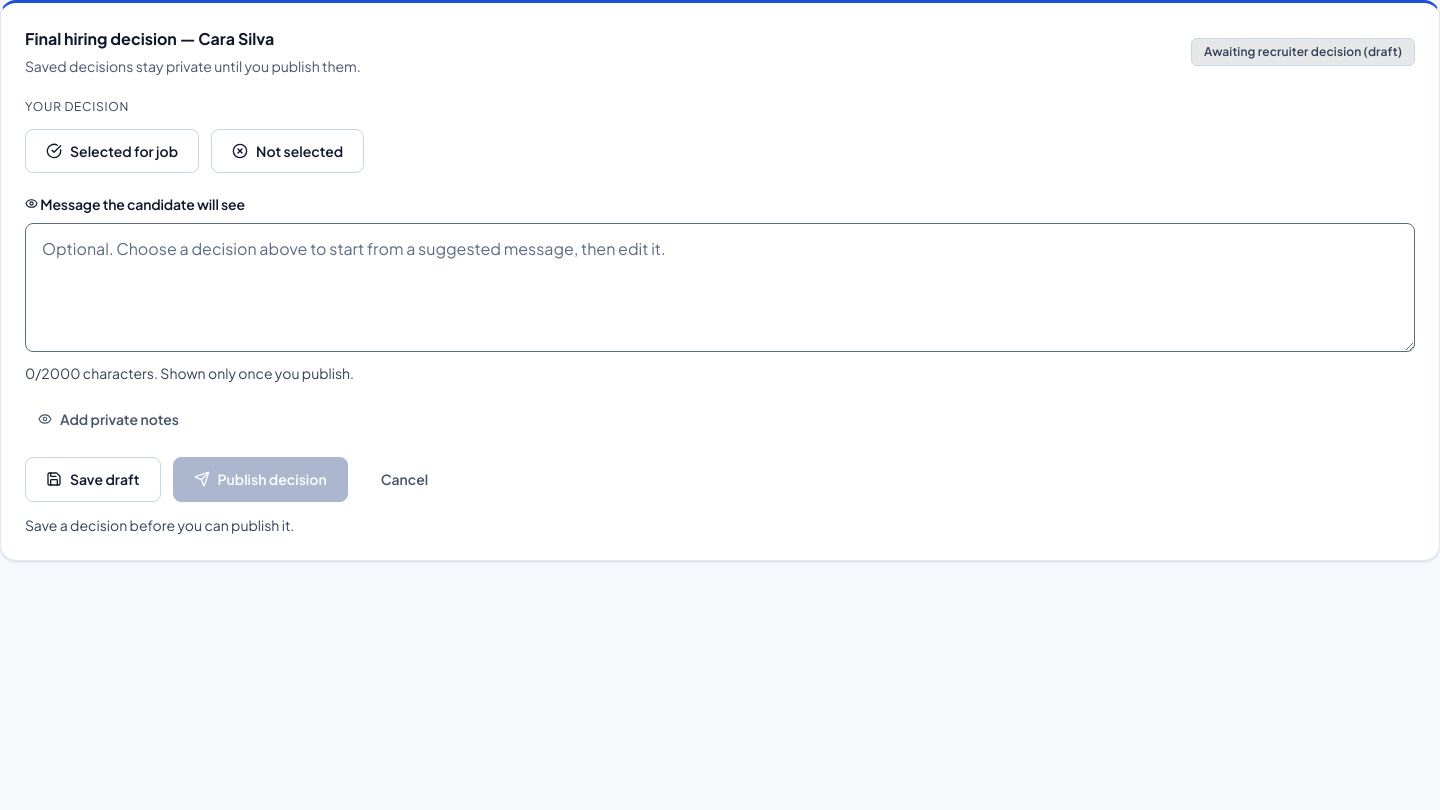
Test: switching the decision › says so when their own wording may no longer fit
Step 1. Click the button "Selected for job" → (112, 151), box [25,129,199,173]
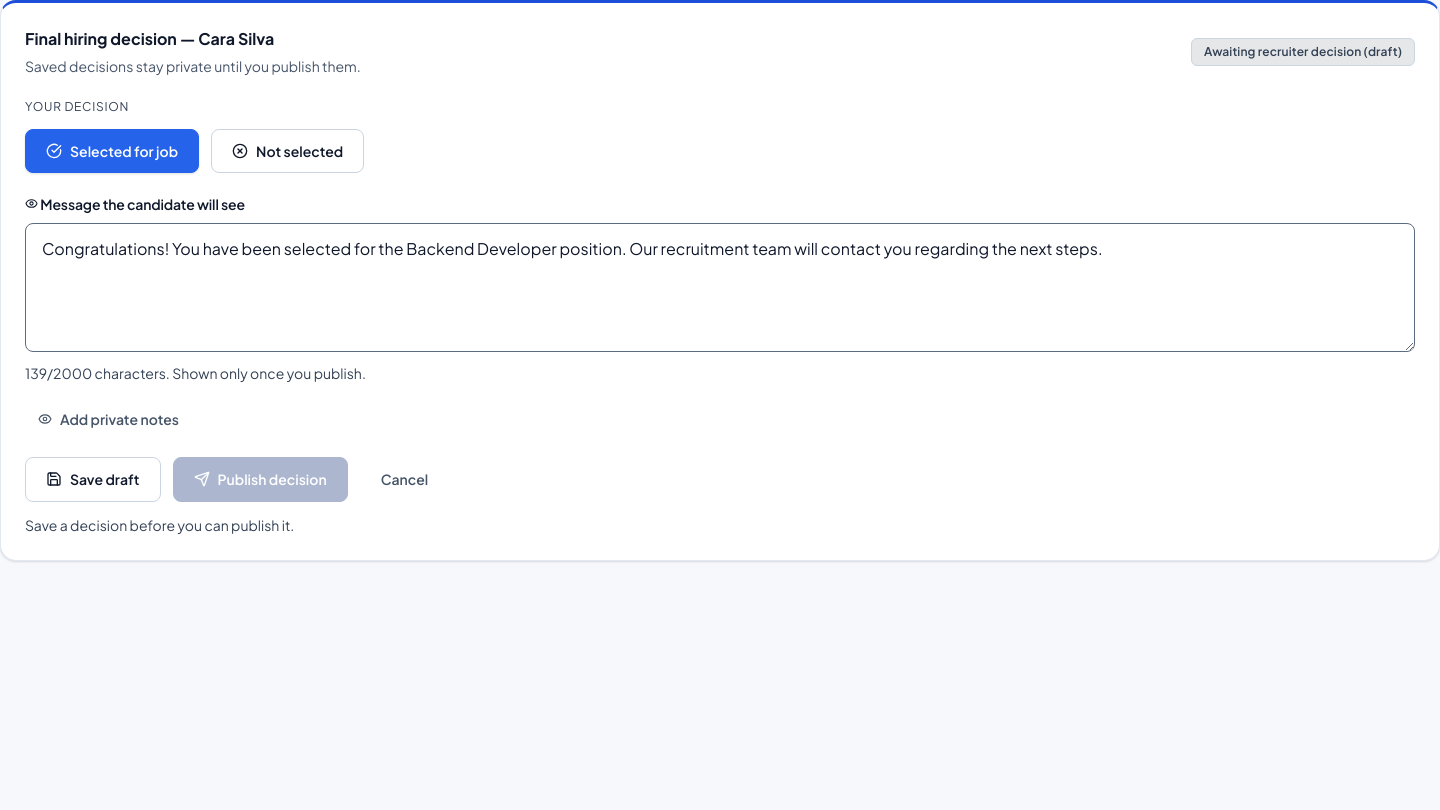
Step 2. Replace the text in the text box with id "feedback-77" with "Delighted to say yes." → (720, 288), box [25,223,1415,352]
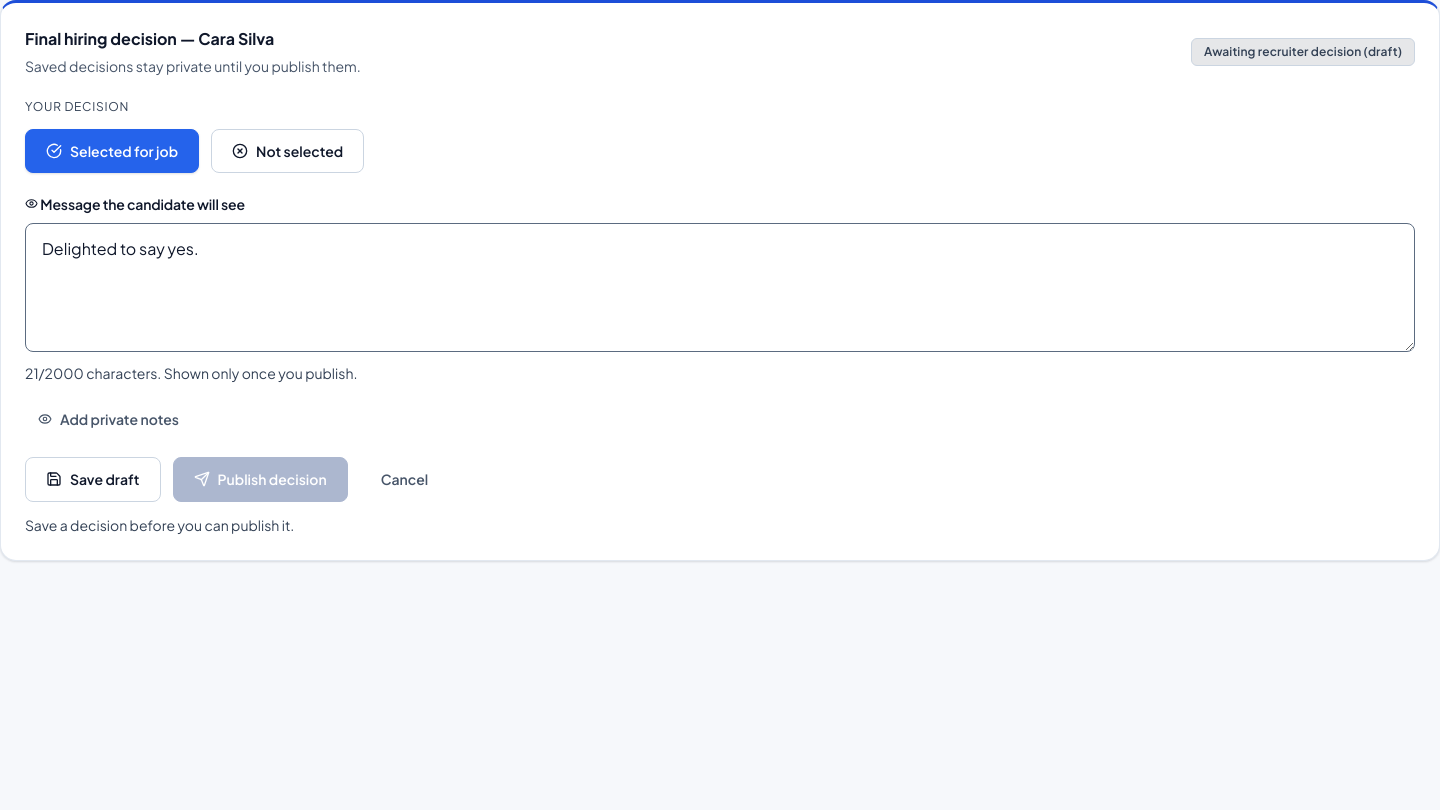
Step 3. Click the button "Not selected" → (288, 151), box [211,129,364,173]
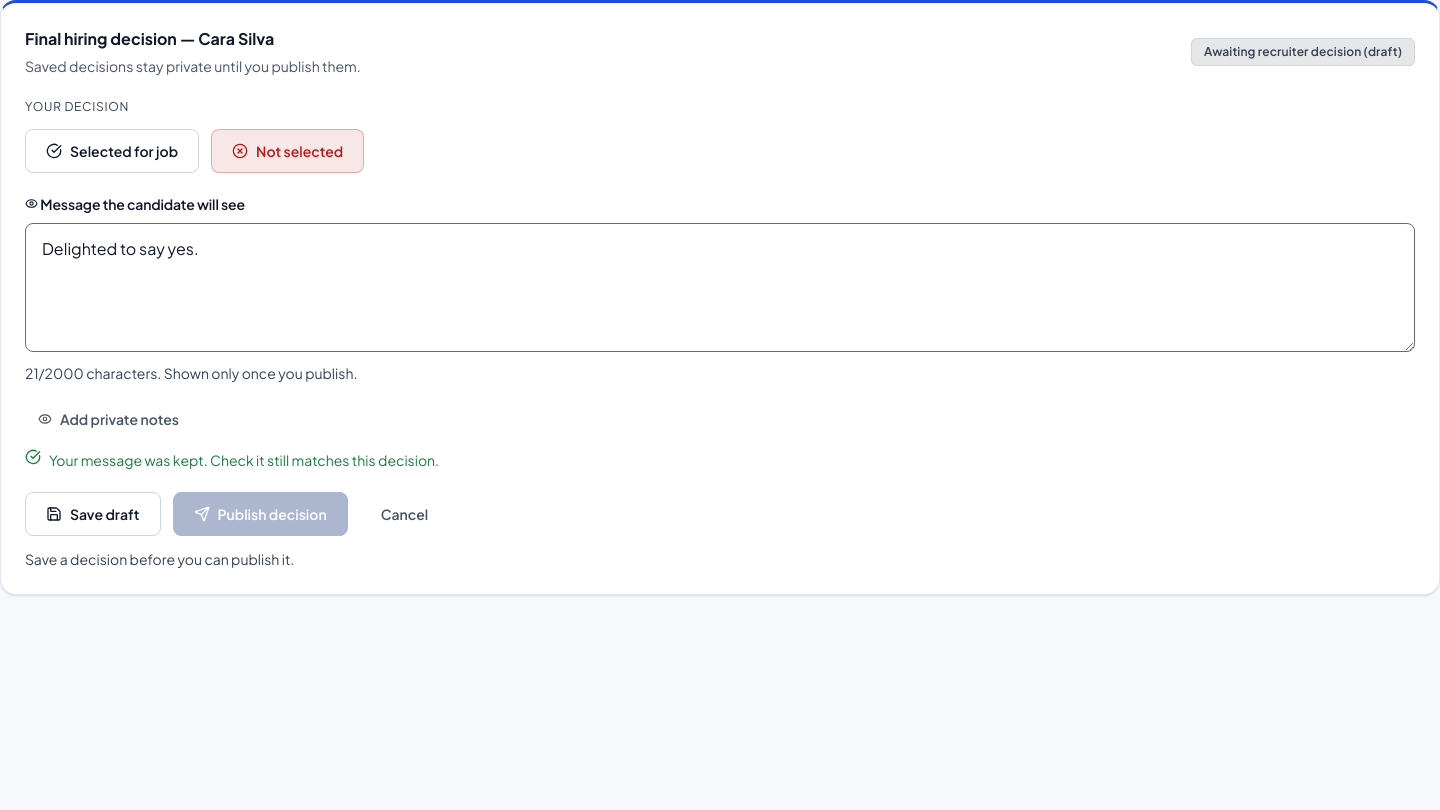
Check: the text "still matches this decision" is shown, box [49,451,439,469]
